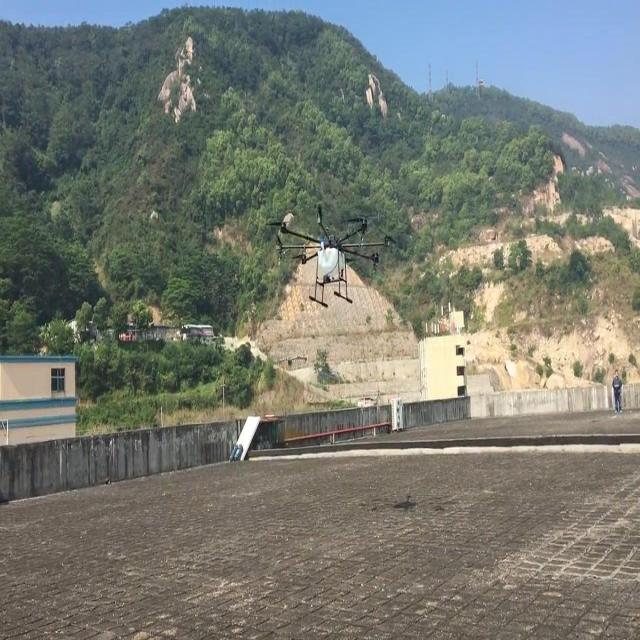drone: (264, 200, 392, 306)
